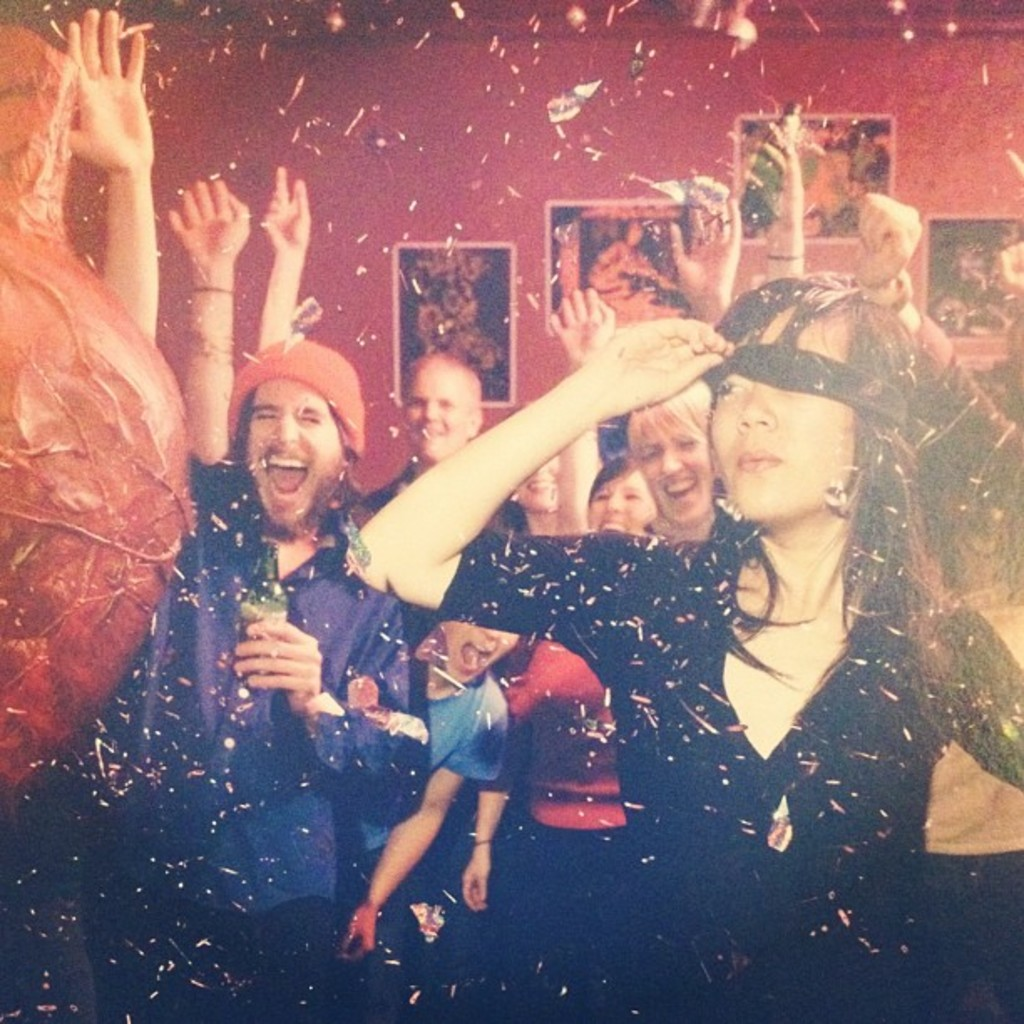Human_hand: (572, 308, 751, 405), (67, 2, 159, 172), (233, 614, 326, 721), (664, 192, 745, 306), (162, 176, 251, 268), (847, 191, 924, 286), (743, 142, 806, 241), (545, 281, 619, 365), (261, 162, 315, 256), (335, 899, 380, 962), (462, 855, 495, 917)
